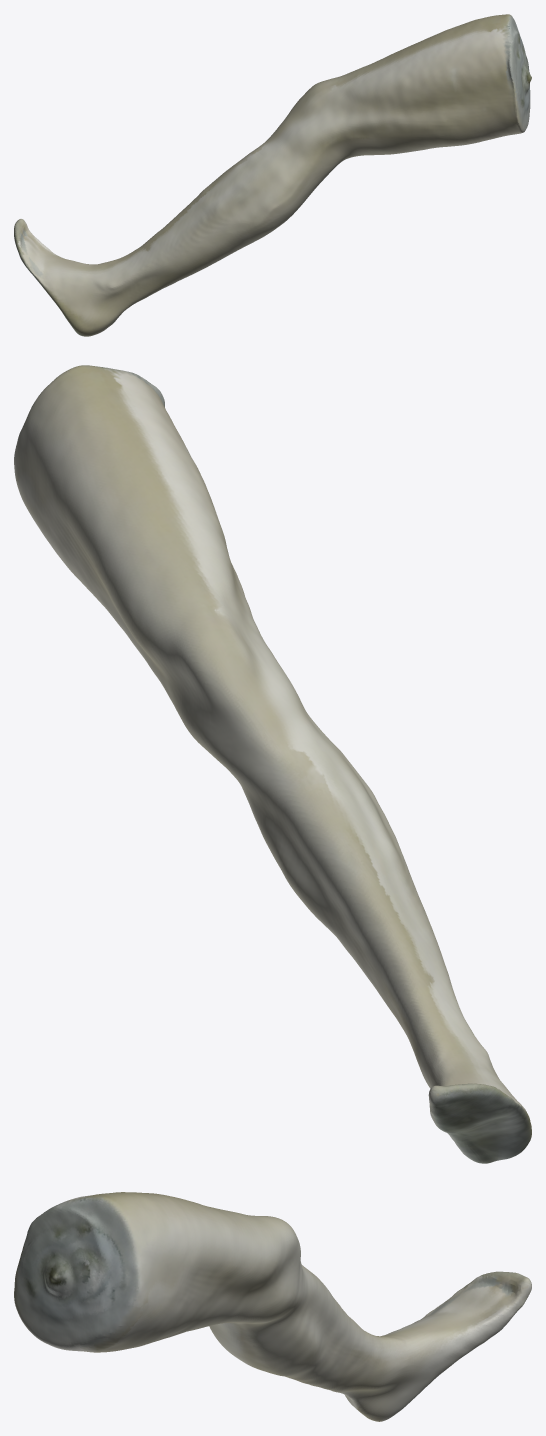
File: mannequin-leg-highpoly.fbx
3 views of the same model, one above another, from view 1: azimuth 30°, elevation 25°; view 2: azimuth 150°, elevation 25°; view 3: azimuth 270°, elevation 25° (orthographic). The views are drawn at different scales.
Parts seen in each view (by area): view 1: Object_2, Object_4, Object_3, Object_5; view 2: Object_2, Object_3, Object_4, Object_5; view 3: Object_3, Object_2, Object_4, Object_5.
Boxes of the visible parts, x1,y1,x2,y2 form: Object_2: (213, 14, 530, 200); Object_4: (14, 177, 316, 335); Object_3: (106, 36, 531, 306); Object_5: (14, 58, 529, 336); Object_2: (14, 365, 374, 841); Object_3: (14, 397, 476, 1046); Object_4: (252, 787, 531, 1154); Object_5: (92, 391, 530, 1163); Object_3: (15, 1197, 375, 1367); Object_2: (14, 1192, 322, 1352); Object_4: (209, 1271, 531, 1410); Object_5: (14, 1217, 529, 1421).
Bounding box in the file's own units: 58855 × 76572 × 57190.
